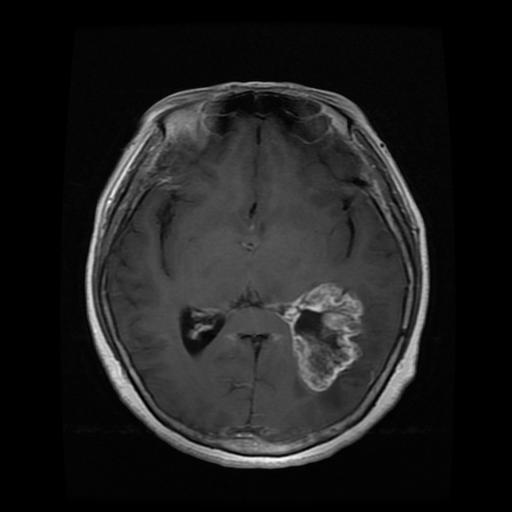Gliomia_tumour: (282, 281, 364, 392)
